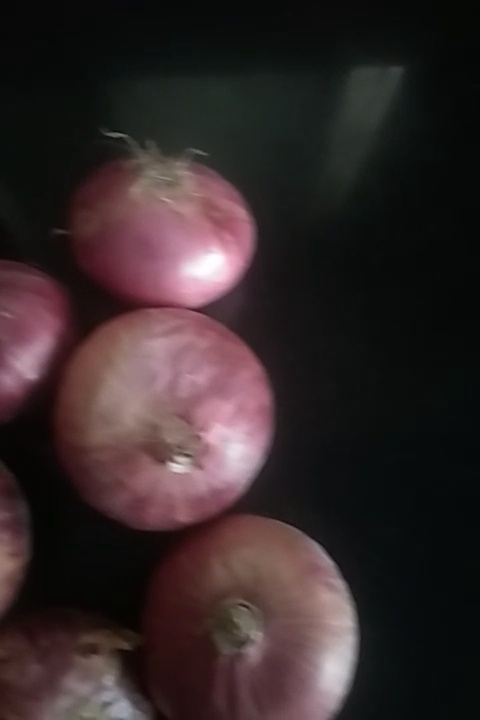onion: (54, 303, 295, 514), (141, 519, 368, 717), (71, 145, 268, 313), (1, 594, 155, 720), (1, 261, 66, 425)
